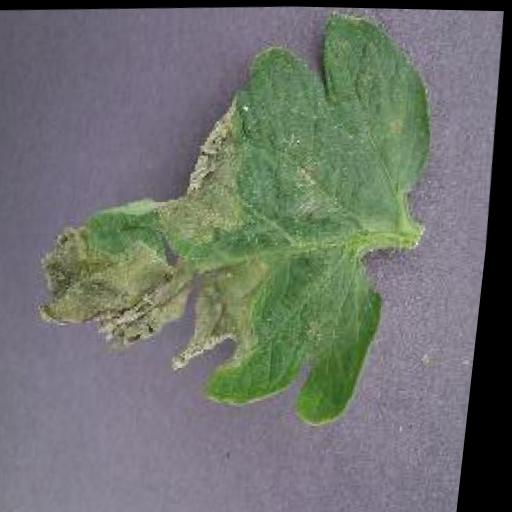Late Blight: (15, 1, 456, 434)
